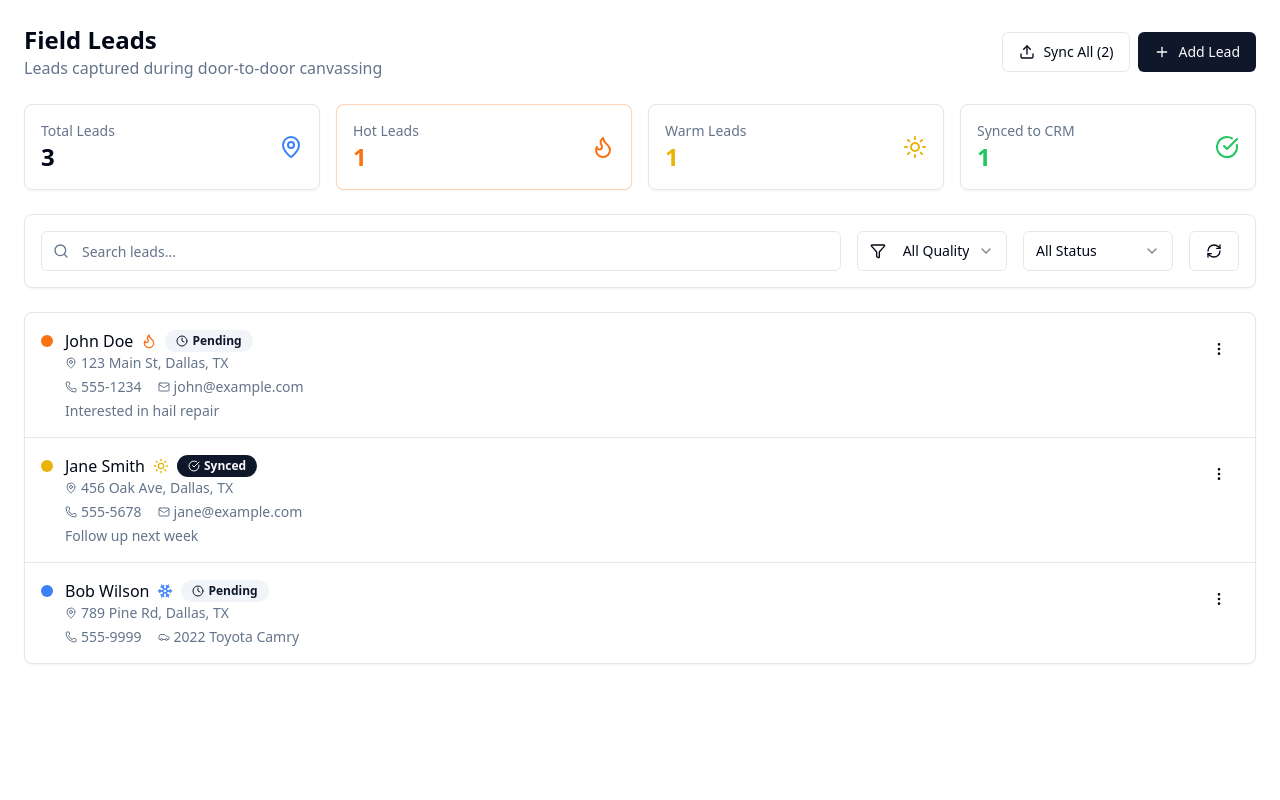
Test case: FieldLeadsPage › Add Lead Dialog › opens add lead dialog when clicking Add Lead
Click the button "Add Lead" at (1197, 52), box x1=1138 y1=32 x2=1256 y2=72
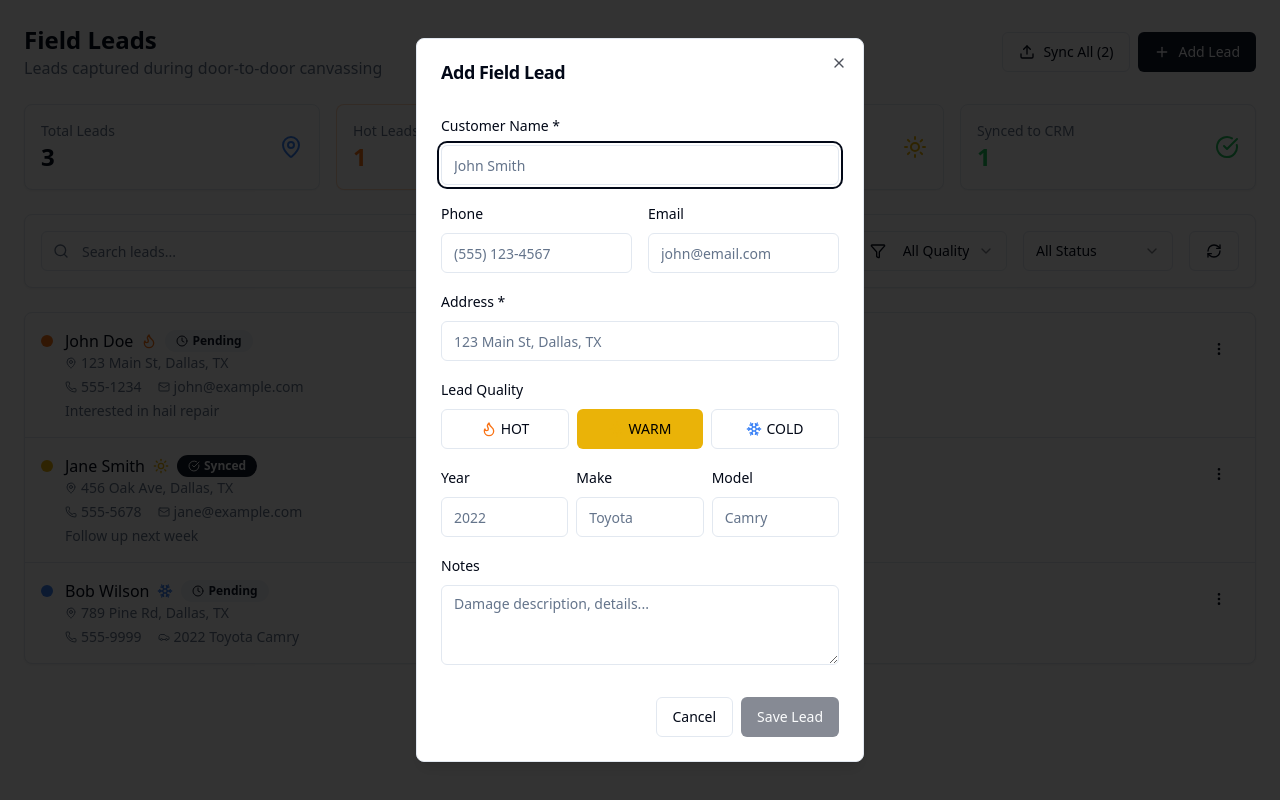
Check: the heading "Add Field Lead" is shown, box x1=441 y1=60 x2=565 y2=84
